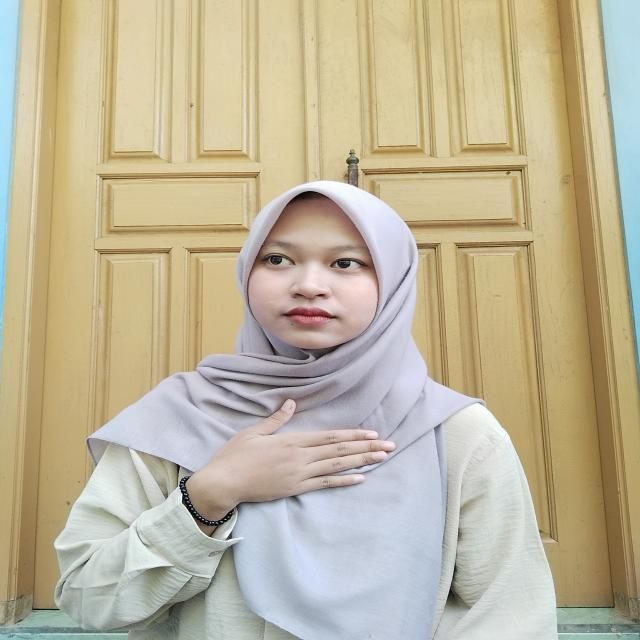tolong: (148, 392, 410, 542)
